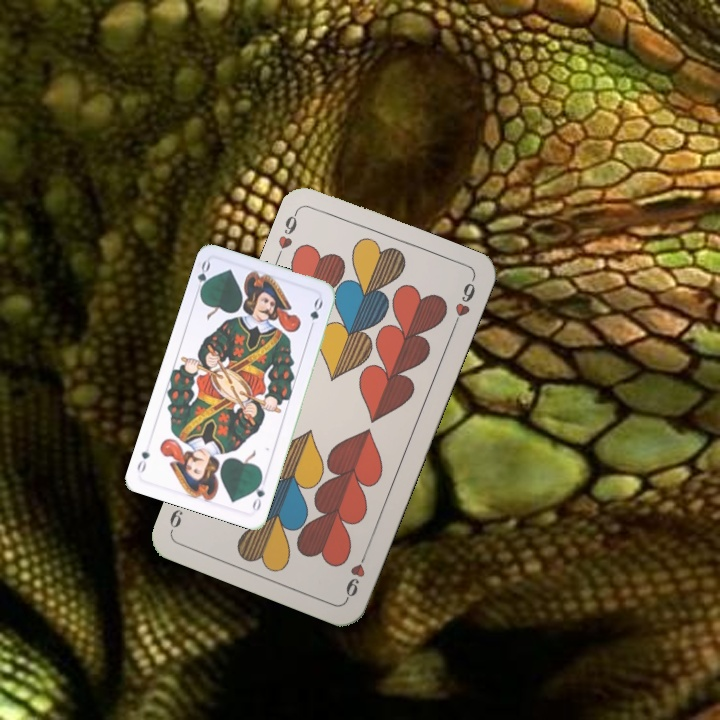GO: (191, 257, 214, 298), (248, 474, 267, 514)
H9: (341, 545, 370, 602), (272, 206, 301, 263)
